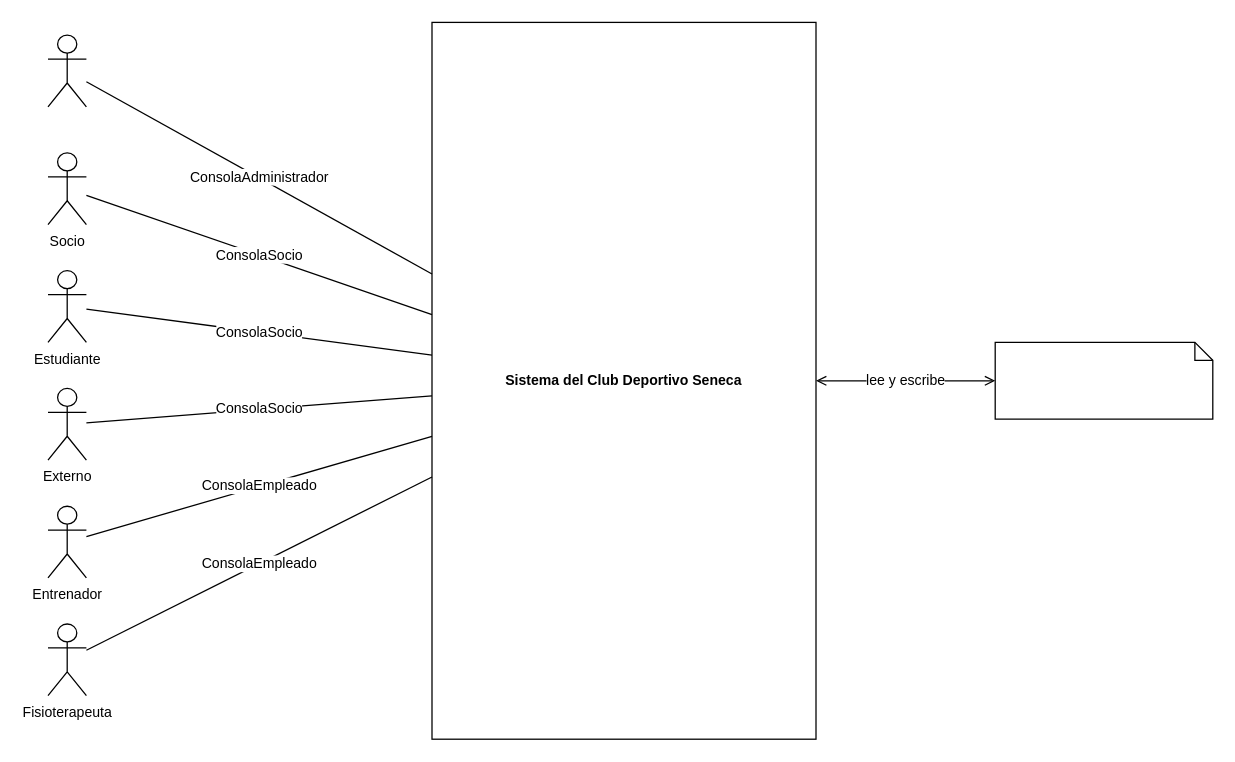
Some shapes in this 1235 by 762 pixel diagram are drawn without their labels. Each missing label, with the centre of its shape:
Administrador: pixel 66 70
«artifact» datos/club.json: pixel 1103 380
